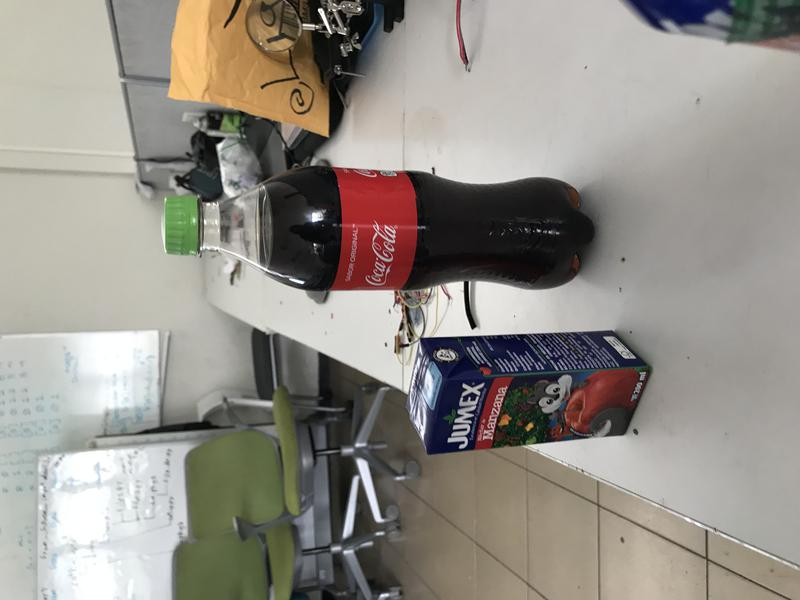coca_cola: (164, 166, 597, 293)
jumex_cajita: (407, 330, 653, 455)
